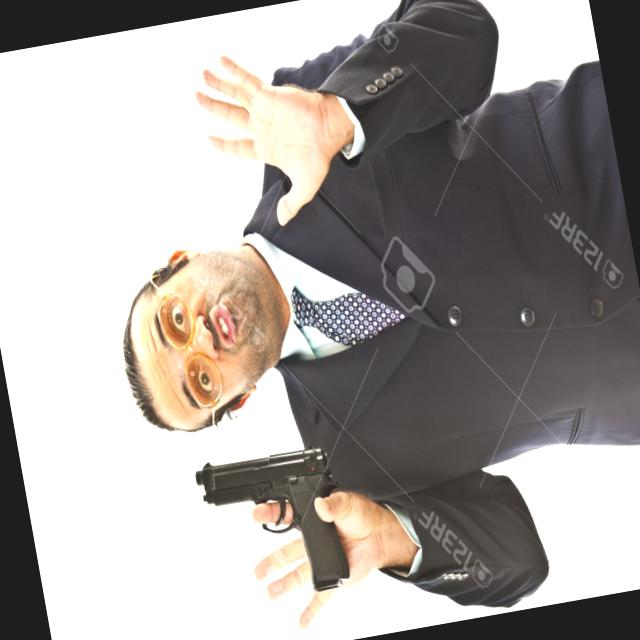handgun: (192, 440, 358, 609)
